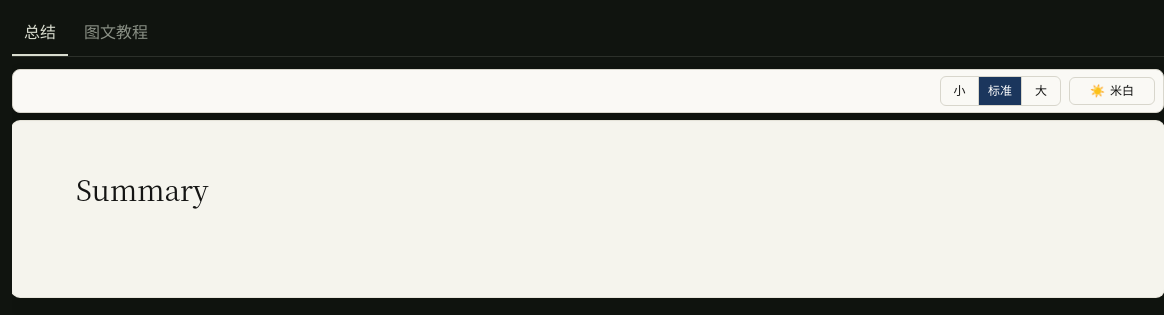
Test: DocumentReader › shows an unavailable reason inside the tutorial tab
Click the tab "图文教程".
click(116, 34)  # box [72,12,160,56]
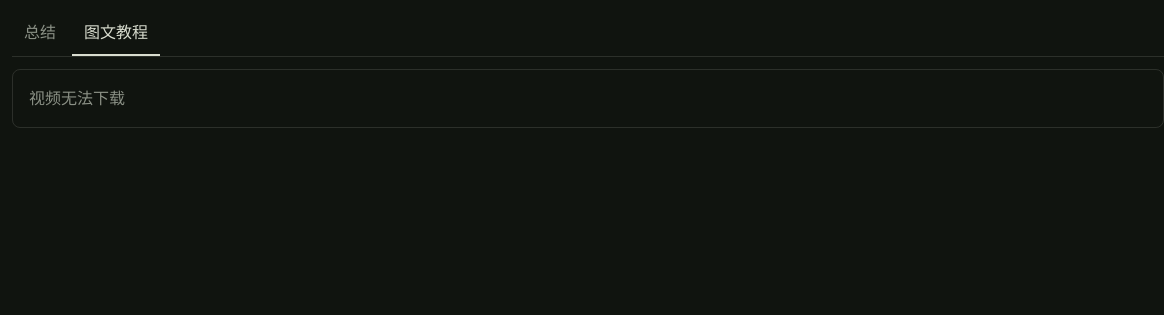
Check: the text "视频无法下载" is shown, box [12,69,1163,128]
